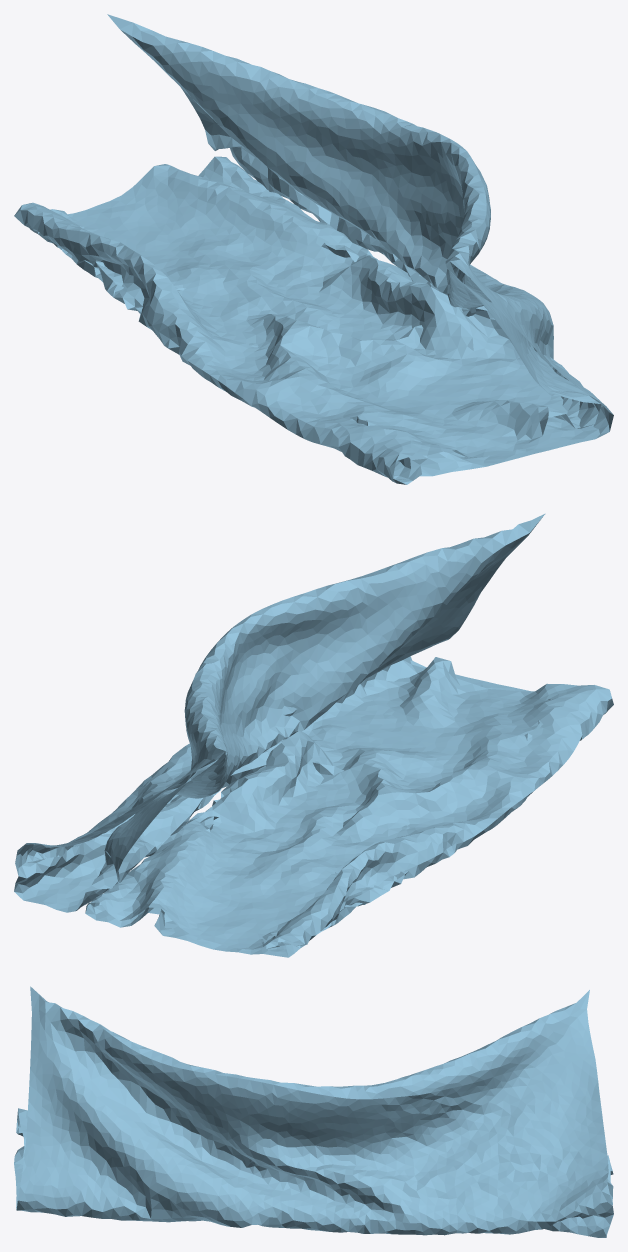
Rendered from frame_16.glb.
3 renders of one model, top to bottom at view 1: azimuth 30°, elevation 25°; view 2: azimuth 150°, elevation 25°; view 3: azimuth 270°, elevation 25°, orthographic. The views are drawn at different scales.
Parts seen in each view (by area): view 1: frame_16.obj; view 2: frame_16.obj; view 3: frame_16.obj.
Part boxes in pixels (x1=…): frame_16.obj: x1=14, y1=14, x2=613, y2=484; frame_16.obj: x1=14, y1=513, x2=613, y2=957; frame_16.obj: x1=14, y1=986, x2=613, y2=1237.
Bounding box in the file's own units: 0.7965 × 0.509 × 1.6.
